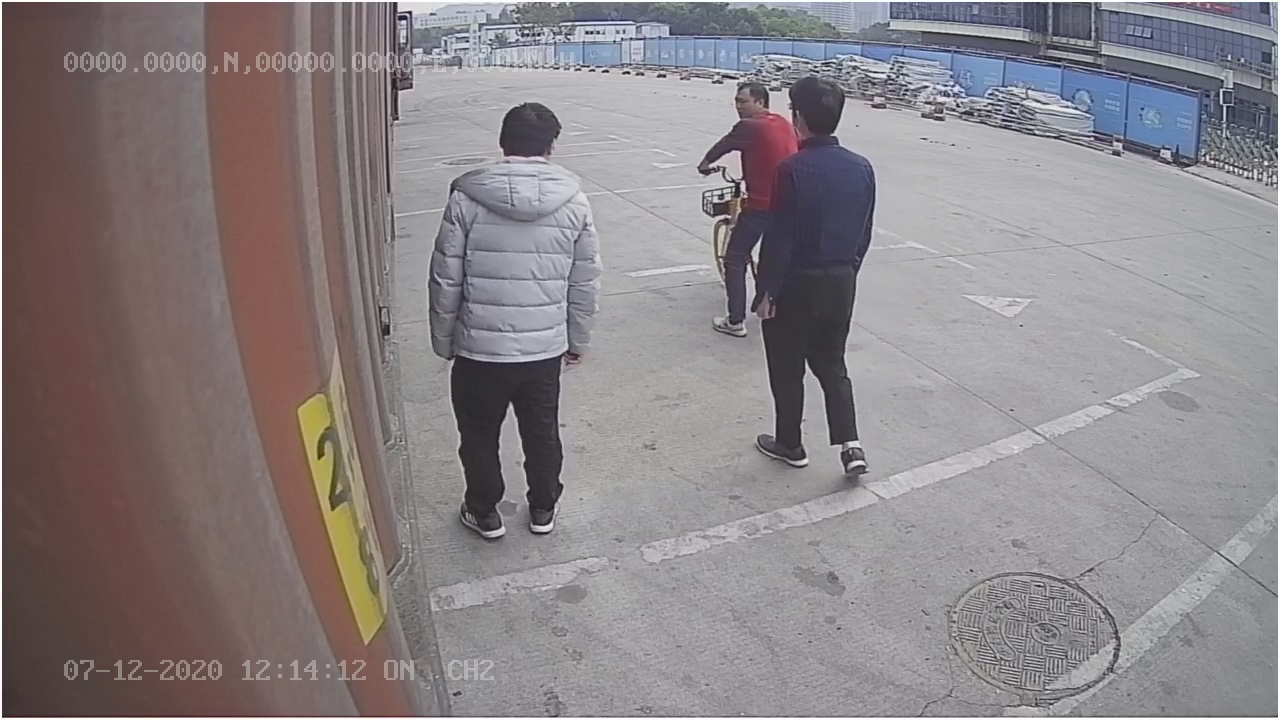person: (430, 100, 609, 537)
